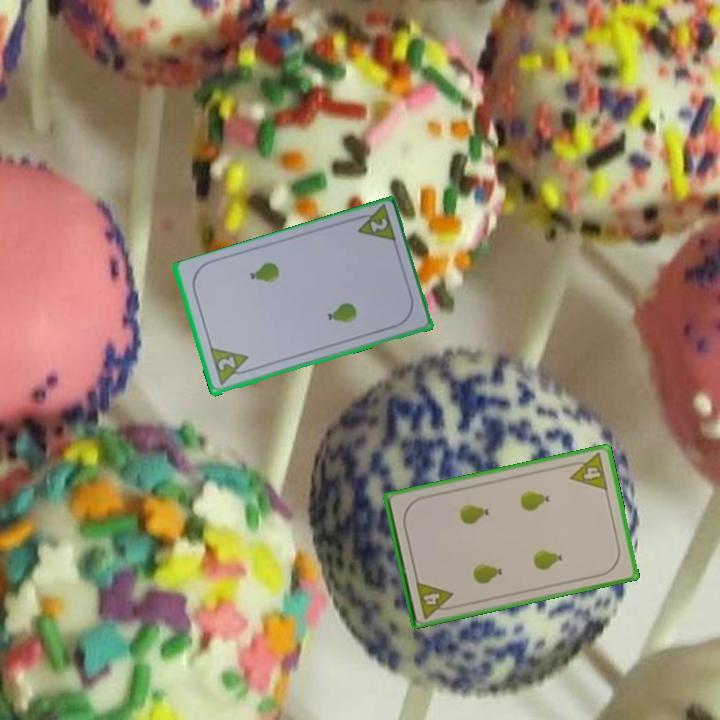2p: (349, 203, 399, 246), (214, 353, 238, 374)
4p: (564, 449, 611, 493), (412, 577, 458, 621)
